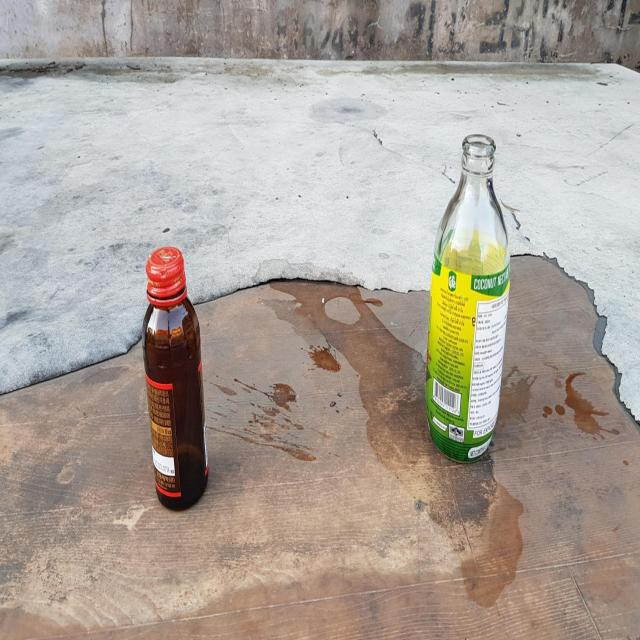glass: (426, 133, 511, 461), (142, 245, 208, 510)
